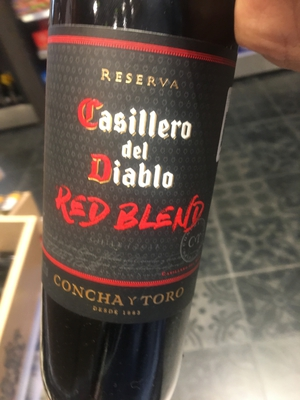casillero del diablo red blend: (33, 11, 247, 377)
